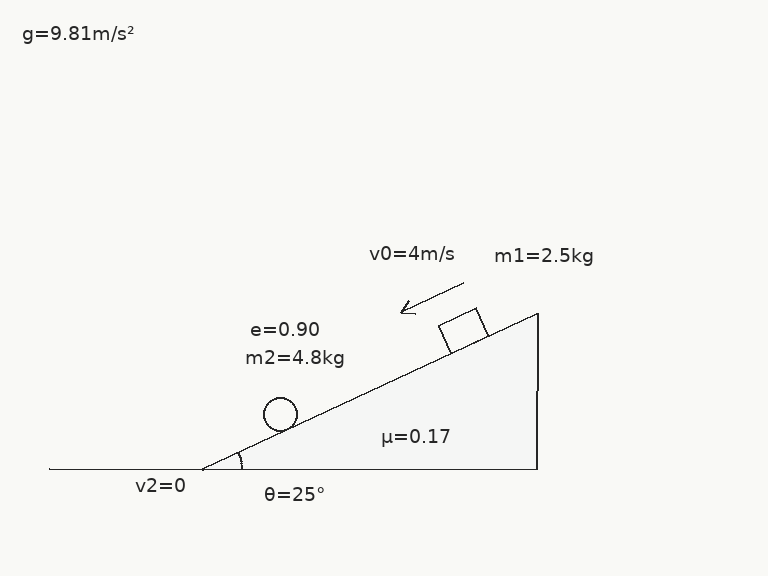ball: (261, 395, 299, 433)
block: (435, 306, 490, 355)
ramp: (200, 311, 538, 471)
